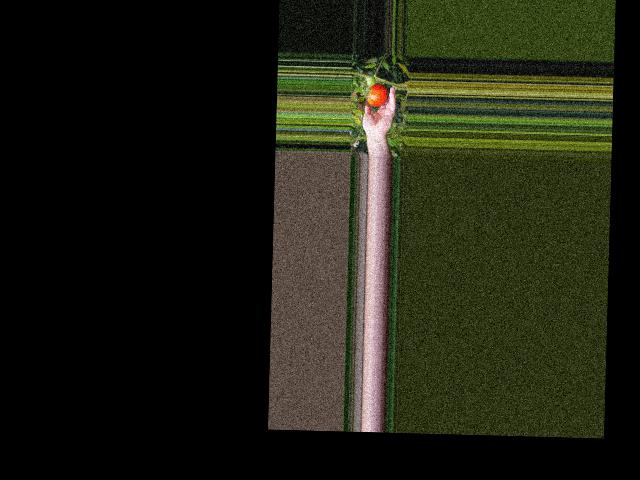tomato: (367, 83, 387, 107)
